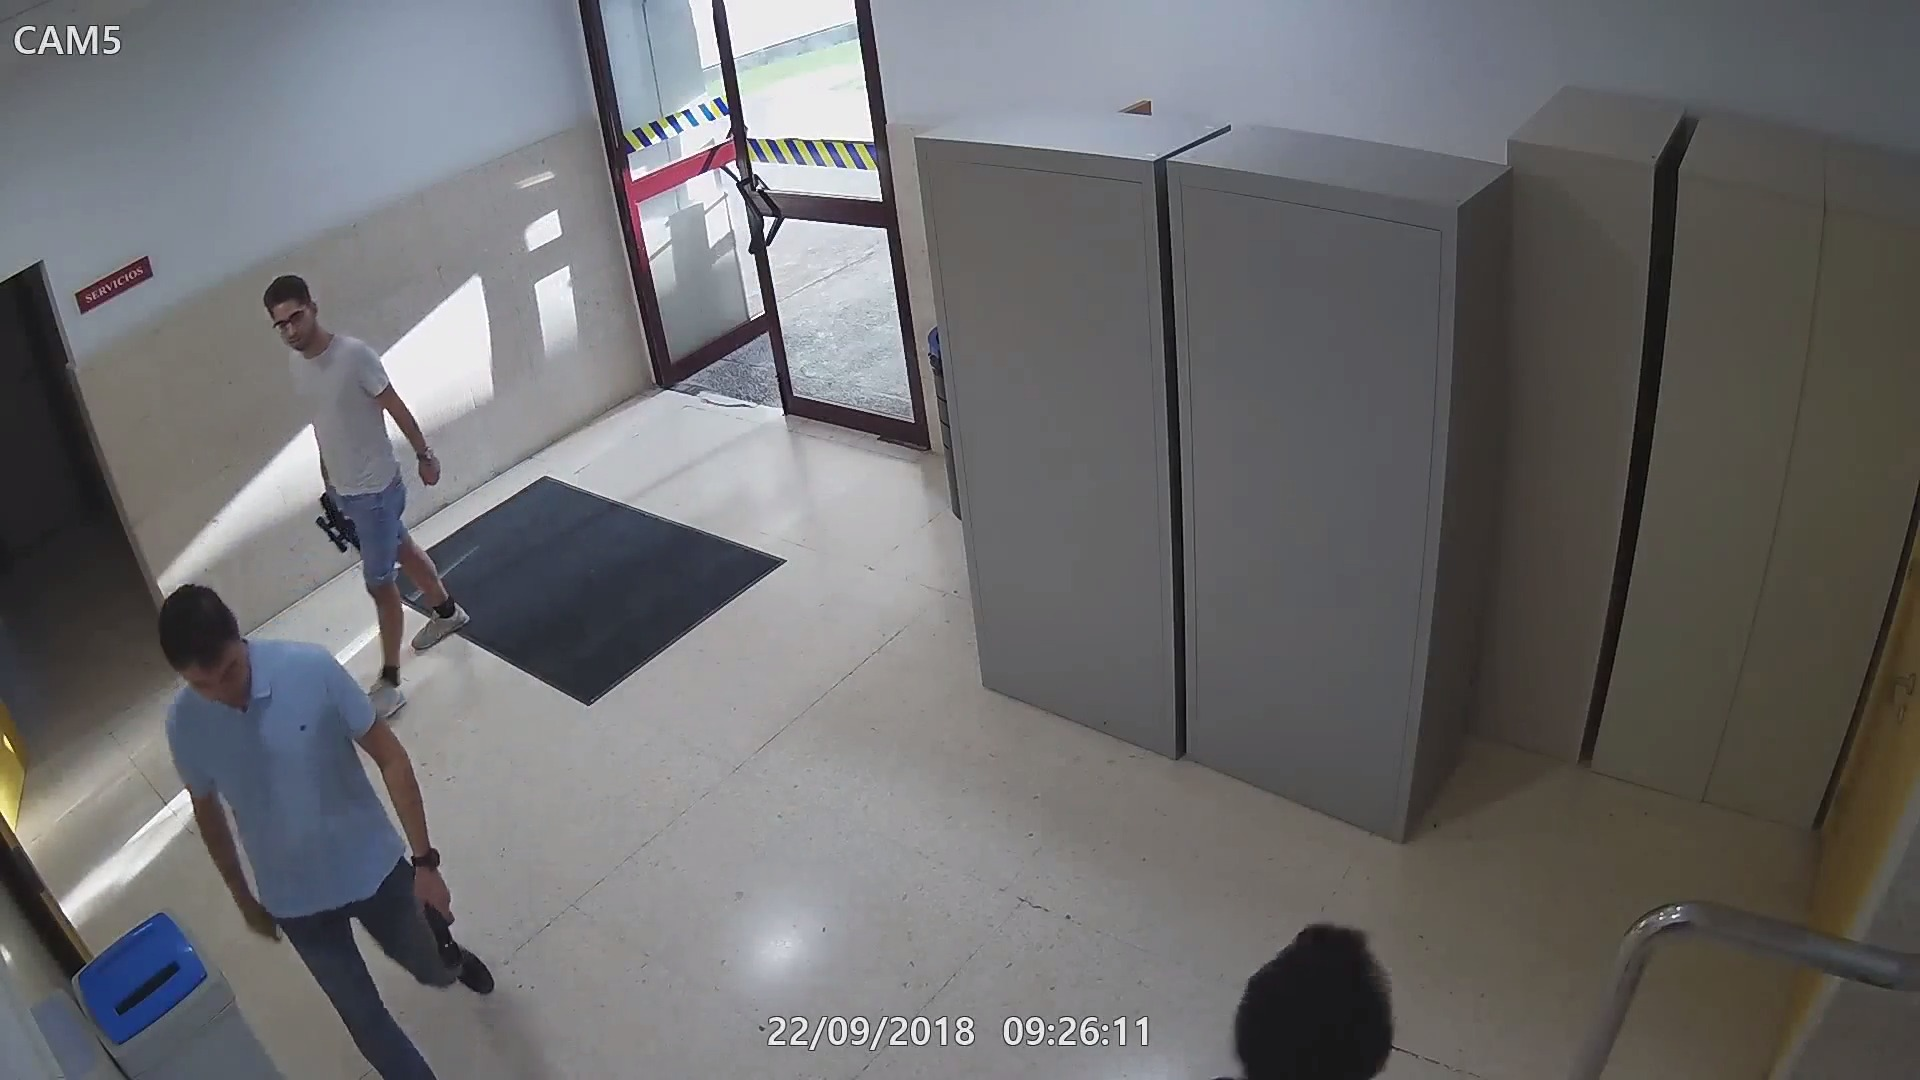Short_rifle: (301, 487, 353, 568)
